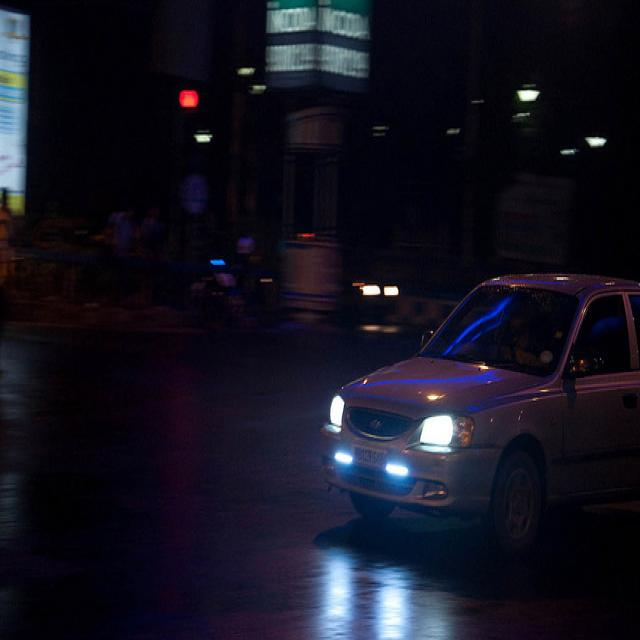Car: (285, 238, 640, 585)
